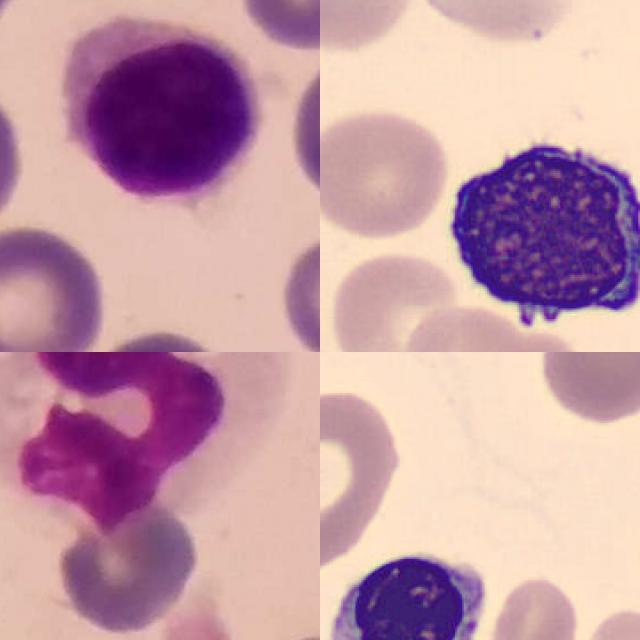Lymphocyte: (437, 123, 640, 334), (67, 16, 263, 202), (320, 541, 494, 640)
Monocyte: (0, 352, 284, 528)
RBC: (320, 103, 453, 241), (320, 384, 407, 574), (323, 243, 467, 352), (403, 303, 584, 352), (405, 0, 591, 46), (533, 352, 640, 425), (467, 573, 582, 640), (320, 0, 419, 53)
